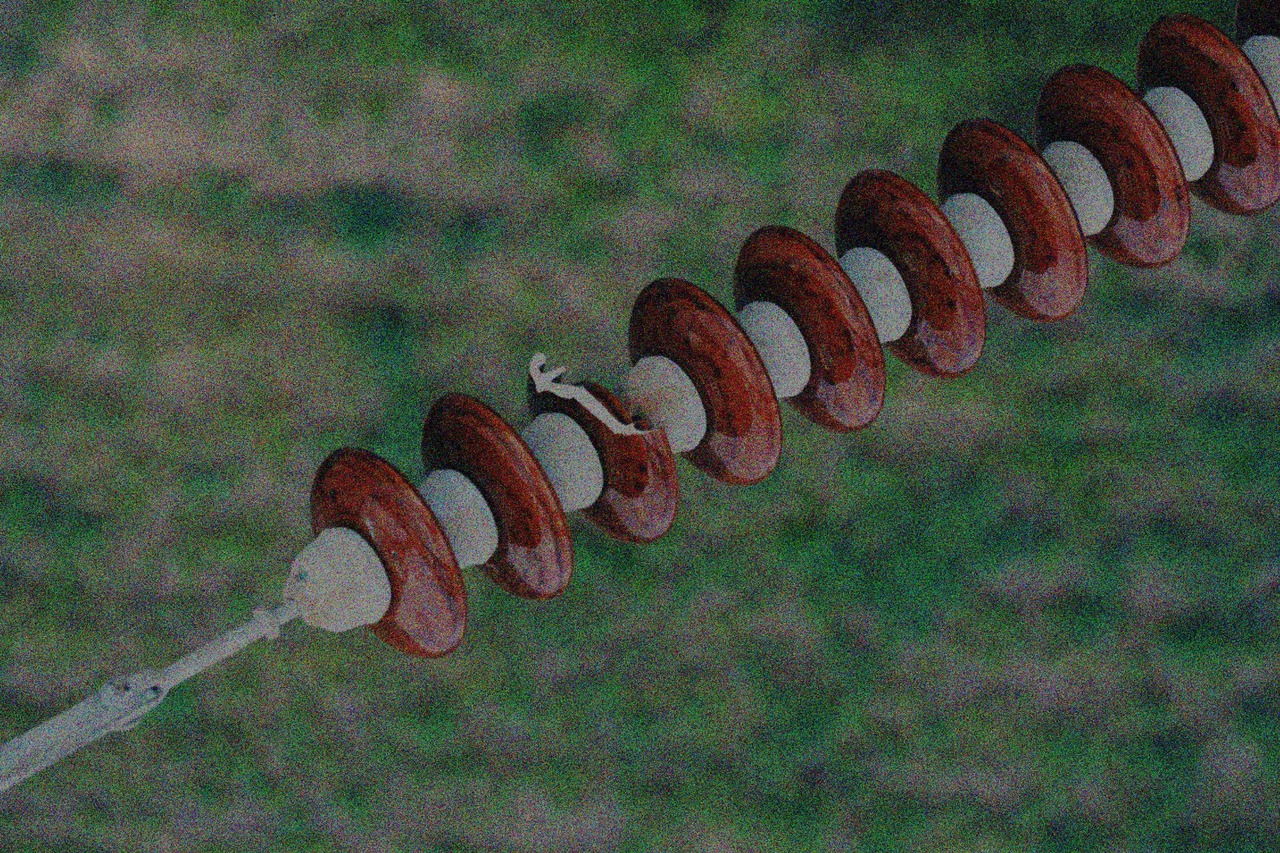Broken: (511, 336, 683, 550)
No issues: (291, 442, 466, 661), (1035, 54, 1197, 276), (829, 158, 990, 380), (938, 110, 1099, 332), (731, 217, 892, 439), (413, 401, 574, 614), (1140, 6, 1280, 223), (647, 273, 782, 484)
String: (282, 4, 1280, 666)
